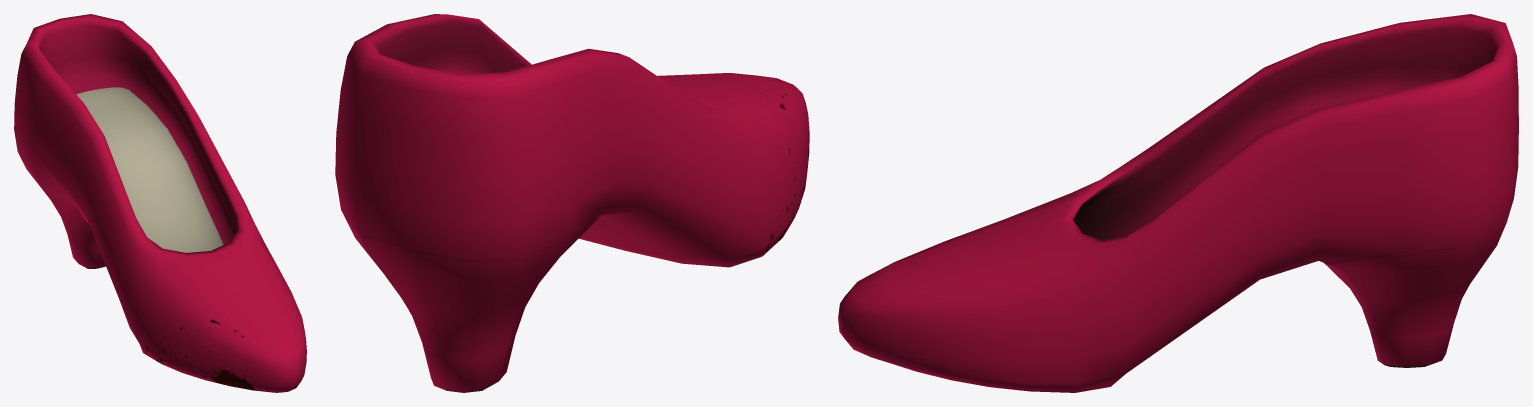
The model's file is shoe_01.fbx.
3 renders of one model, left to right at view 1: azimuth 30°, elevation 25°; view 2: azimuth 150°, elevation 25°; view 3: azimuth 270°, elevation 25°, orthographic. The views are drawn at different scales.
Parts seen in each view (by area): view 1: shoe_01; view 2: shoe_01; view 3: shoe_01.
Boxes of the visible parts, x1,y1,x2,y2 form: shoe_01: (14,14,306,392); shoe_01: (335,14,809,392); shoe_01: (838,14,1518,392).
Bounding box in the file's own units: 24.2 × 35.86 × 70.02.
